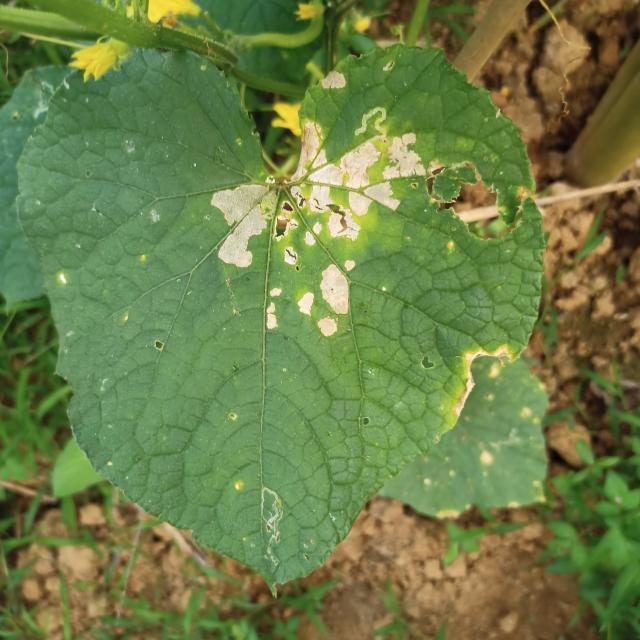disease_cucumber: (207, 123, 430, 339), (316, 65, 348, 94)
